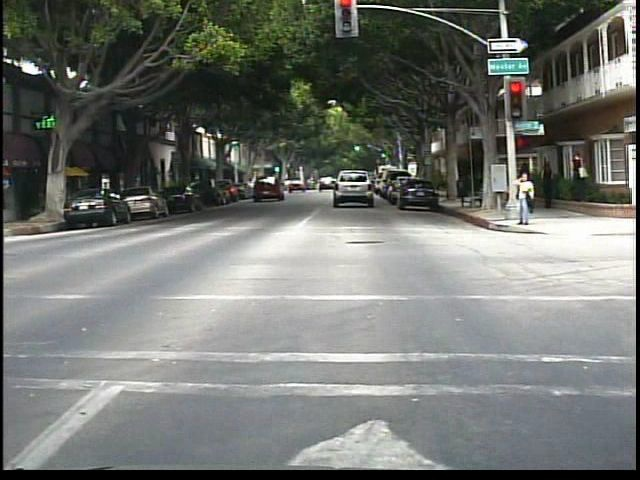person: (511, 169, 537, 228), (567, 149, 592, 203), (538, 159, 561, 217), (517, 158, 536, 213)
